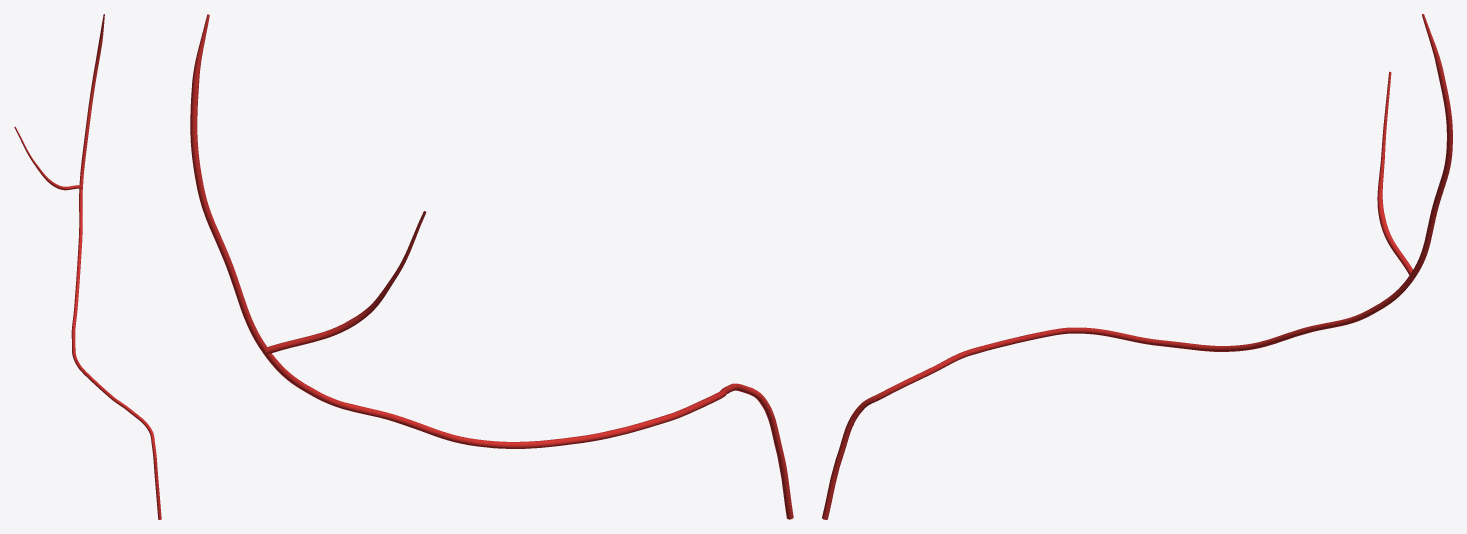
The model's file is circulatorio-occipital-vein-r.glb.
3 renders of one model, left to right at view 1: azimuth 30°, elevation 25°; view 2: azimuth 150°, elevation 25°; view 3: azimuth 270°, elevation 25°, orthographic. The views are drawn at different scales.
Parts seen in each view (by area): view 1: Occipital vein.r; view 2: Occipital vein.r; view 3: Occipital vein.r.
Boxes of the visible parts, <box> form: Occipital vein.r: <box>14,14,161,519</box>; Occipital vein.r: <box>190,14,793,519</box>; Occipital vein.r: <box>822,14,1452,519</box>.
Size of the model in its own units: 0.043 by 0.1085 by 0.1027.
